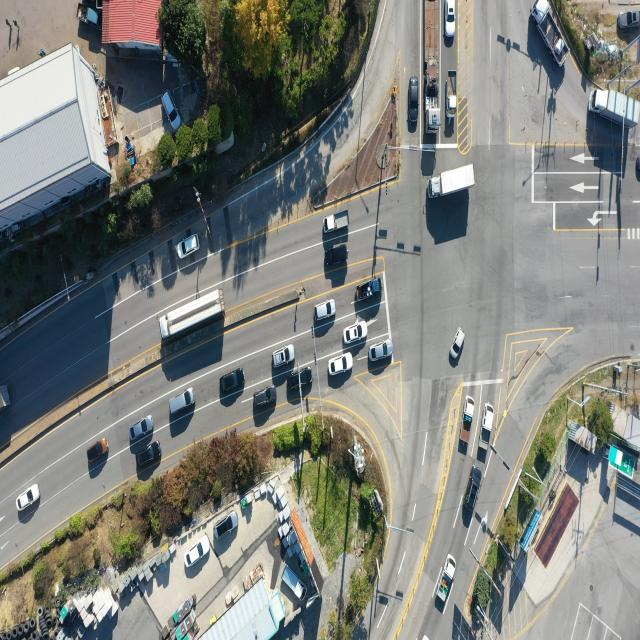car: (465, 465, 482, 511), (161, 93, 180, 134), (184, 537, 208, 568), (169, 388, 195, 416), (136, 442, 162, 468), (17, 484, 41, 512), (286, 369, 312, 394), (215, 511, 237, 539), (328, 352, 353, 376), (219, 370, 244, 394), (177, 235, 199, 261), (132, 416, 154, 442), (410, 78, 421, 130), (344, 323, 368, 346), (273, 344, 296, 368), (87, 440, 110, 464), (368, 340, 392, 362), (253, 386, 276, 408), (313, 300, 335, 322), (617, 9, 640, 28), (451, 330, 465, 360), (446, 0, 456, 37)
large_truck: (422, 0, 442, 133)
medium_truck: (160, 292, 227, 344), (534, 0, 569, 63), (427, 167, 474, 203), (592, 88, 633, 128)
small_truck: (436, 552, 456, 603), (283, 565, 308, 602), (479, 403, 496, 451), (459, 397, 474, 442), (357, 278, 383, 301), (76, 2, 98, 28), (323, 212, 349, 233), (445, 68, 456, 115)
